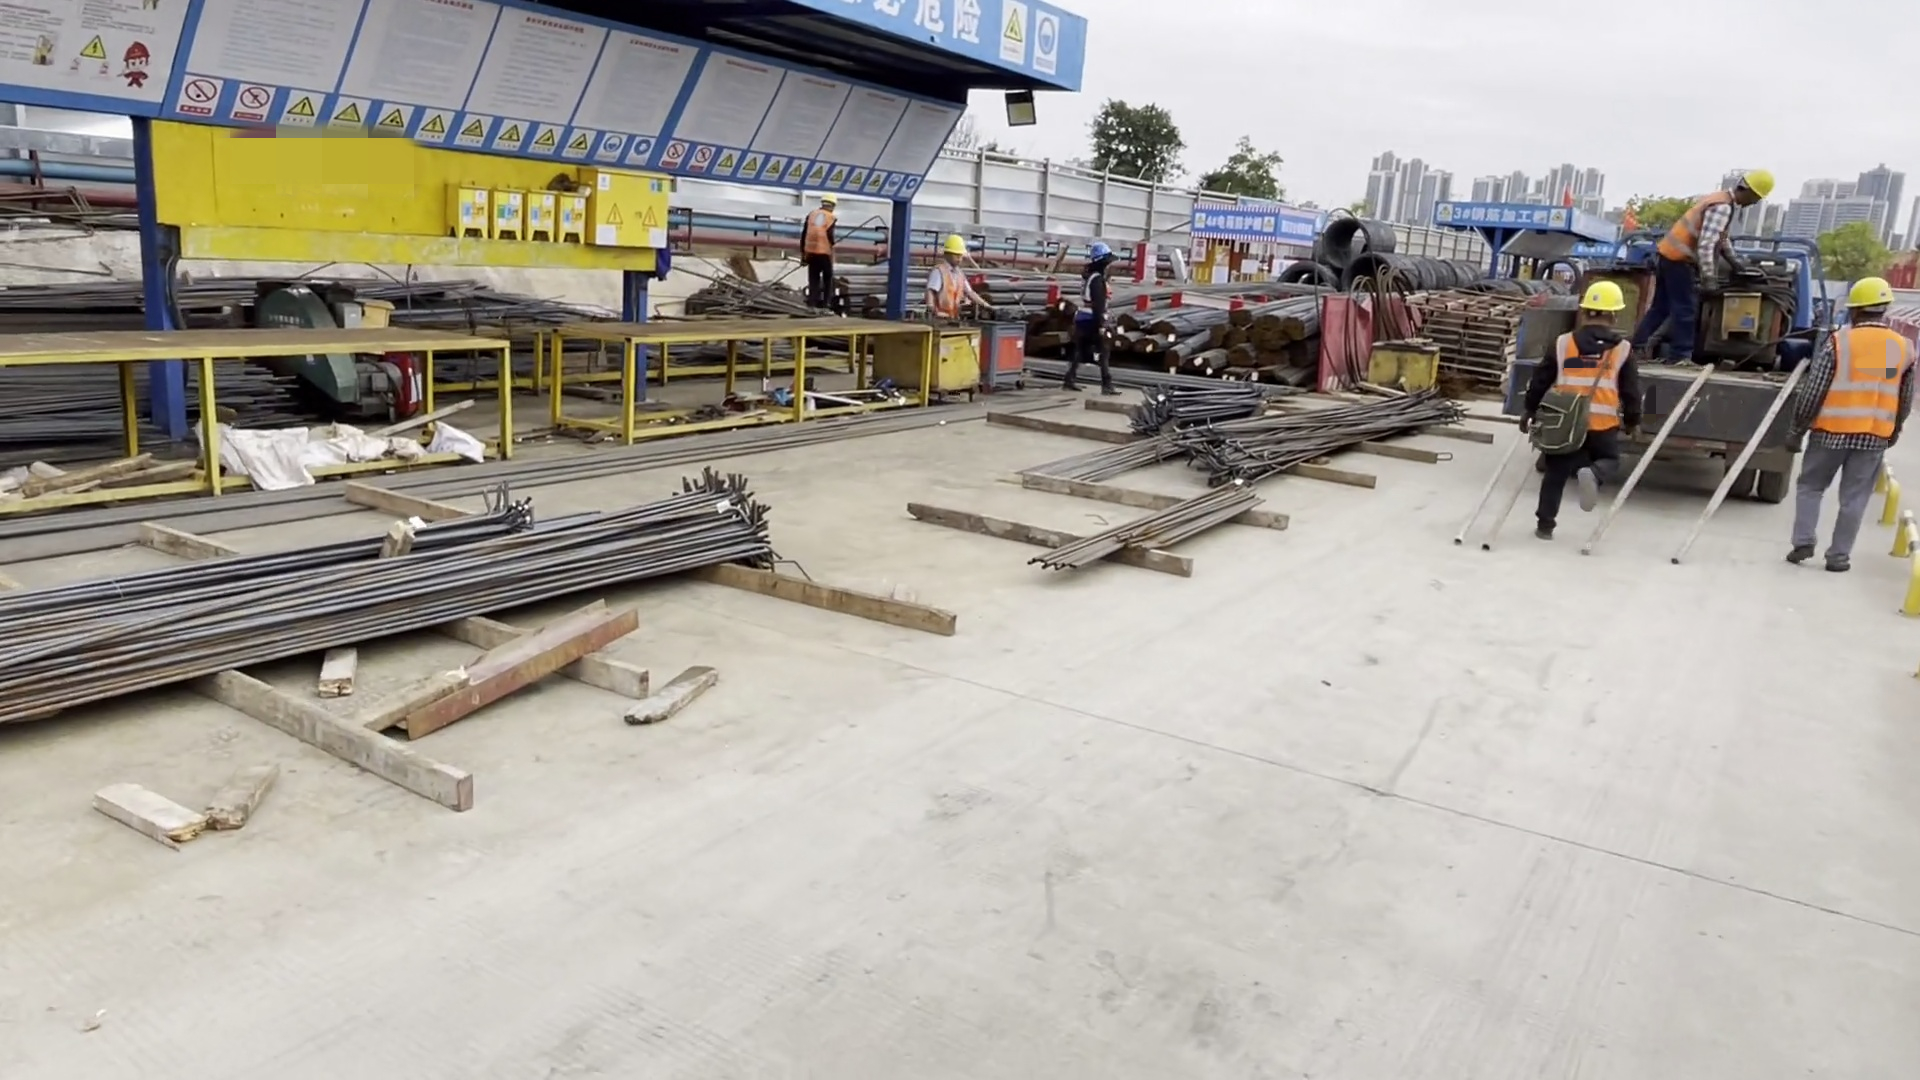ebox: (450, 165, 673, 247), (1722, 291, 1765, 339)
fence: (938, 161, 1173, 236)
helmet: (1847, 272, 1894, 308), (1576, 279, 1624, 312), (1739, 167, 1772, 201), (1085, 240, 1114, 260), (942, 236, 967, 253), (820, 191, 839, 208)
person: (1806, 267, 1911, 600), (1529, 273, 1635, 536), (1636, 165, 1771, 361), (1065, 237, 1128, 398), (798, 188, 845, 320), (925, 231, 975, 329)
rebar: (3, 485, 770, 681), (1136, 372, 1460, 485)
slogan: (1450, 204, 1564, 235), (1197, 208, 1287, 241), (1279, 216, 1313, 239)
vest: (1828, 325, 1899, 445), (1555, 336, 1621, 432), (1661, 197, 1728, 271), (1076, 272, 1116, 330), (804, 211, 836, 260), (937, 266, 967, 319)
